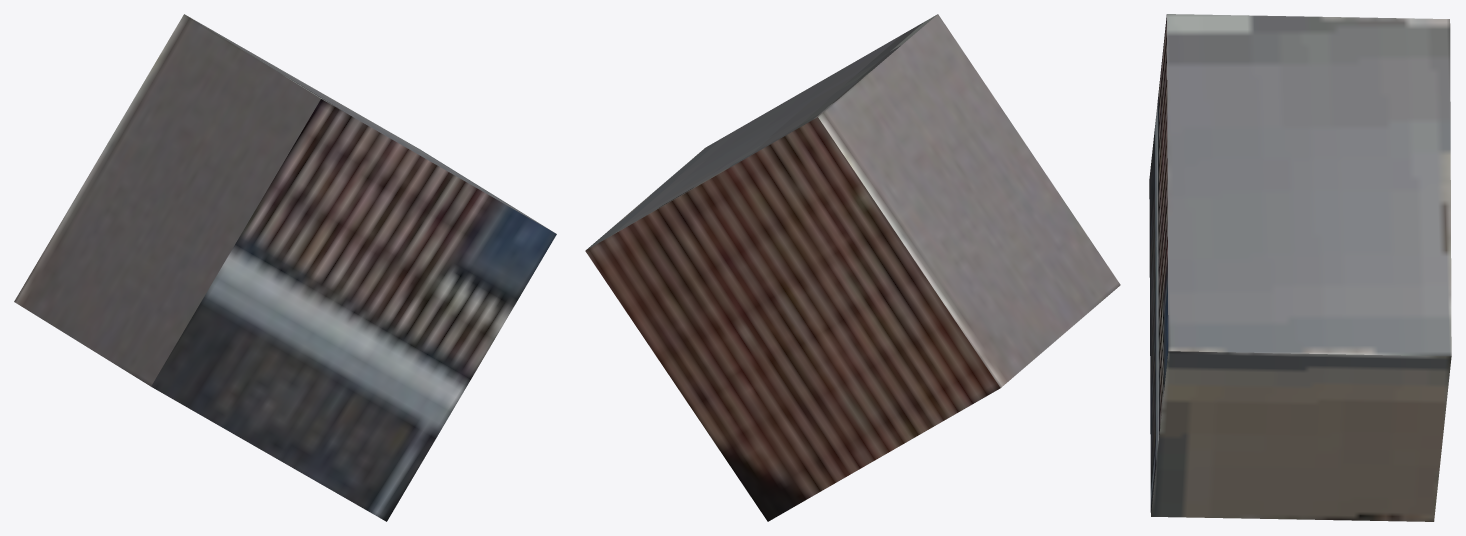
3 renders of one model, left to right at view 1: azimuth 30°, elevation 25°; view 2: azimuth 150°, elevation 25°; view 3: azimuth 270°, elevation 25°, orthographic. The views are drawn at different scales.
Visible parts, largest first — view 1: BAG_0599100100019953; view 2: BAG_0599100100019953; view 3: BAG_0599100100019953.
Boxes of the visible parts, left/top/right/bottom form: BAG_0599100100019953: left=14, top=14, right=556, bottom=521; BAG_0599100100019953: left=585, top=14, right=1120, bottom=521; BAG_0599100100019953: left=1149, top=14, right=1451, bottom=521.
Bounding box in the file's own units: 3.56 × 3.55 × 2.02.
Materials: 1 (1 with a texture image).
